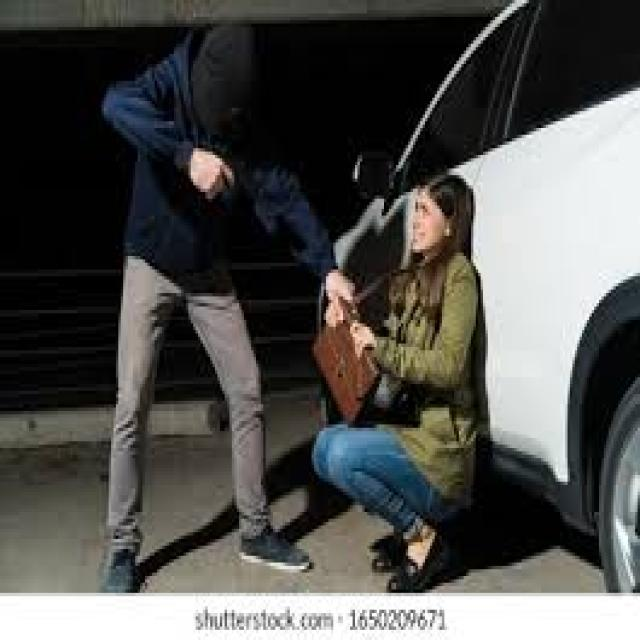Theft_Snatching: (142, 44, 527, 517)
